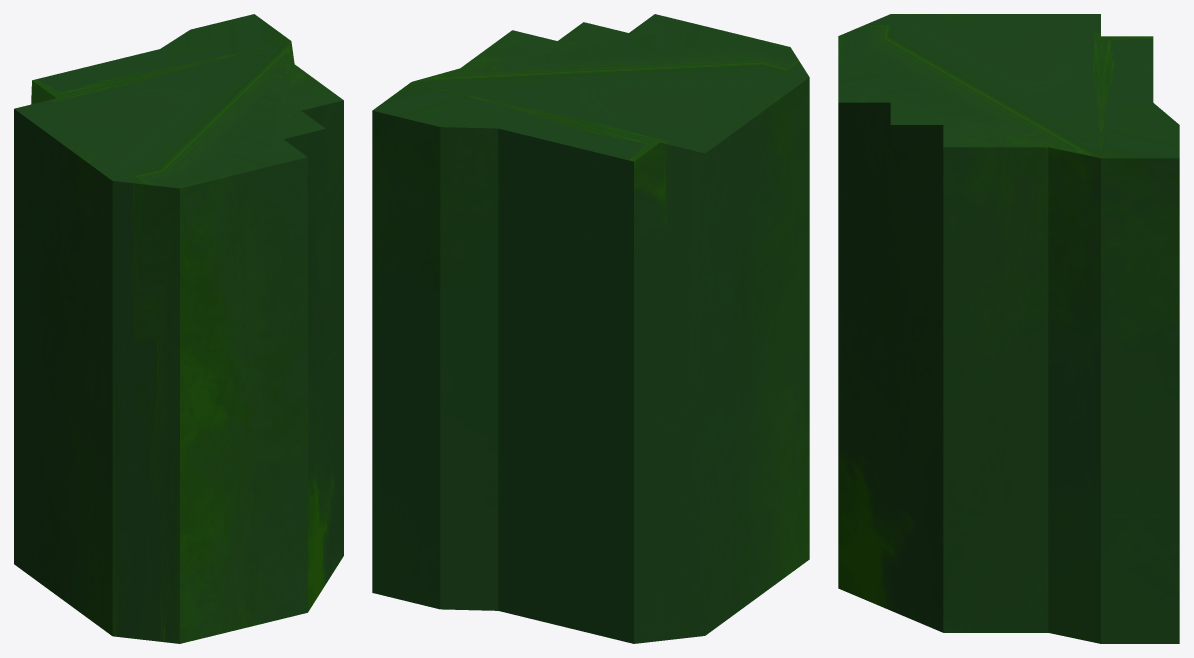
File: BossArea.fbx
3 renders of one model, left to right at view 1: azimuth 30°, elevation 25°; view 2: azimuth 150°, elevation 25°; view 3: azimuth 270°, elevation 25°, orthographic. The views are drawn at different scales.
Parts seen in each view (by area): view 1: 立方体.001, 立方体; view 2: 立方体.001, 立方体; view 3: 立方体.001, 立方体.
Part boxes in pixels (x1,y1,x2,y2): 立方体.001: (14, 80, 343, 643); 立方体: (14, 14, 343, 188); 立方体.001: (372, 77, 809, 643); 立方体: (372, 14, 809, 161); 立方体.001: (838, 102, 1179, 643); 立方体: (838, 14, 1179, 158).
Size of the model in its own units: 65 by 102 by 65.
1 material, 1 textured.
